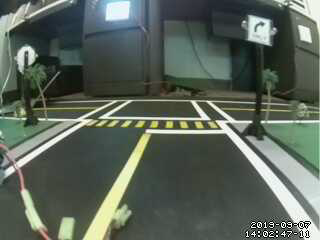Right_only_sign: (244, 13, 275, 46)
